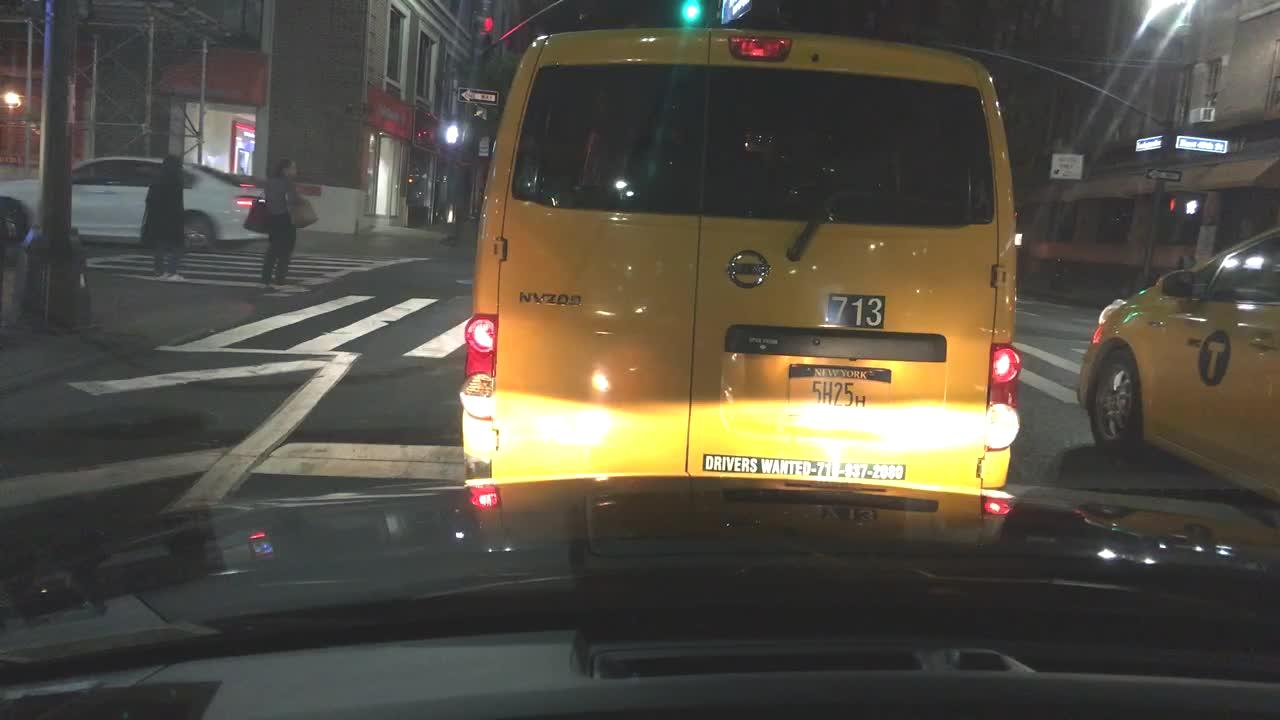Nissan: (725, 245, 769, 290)
